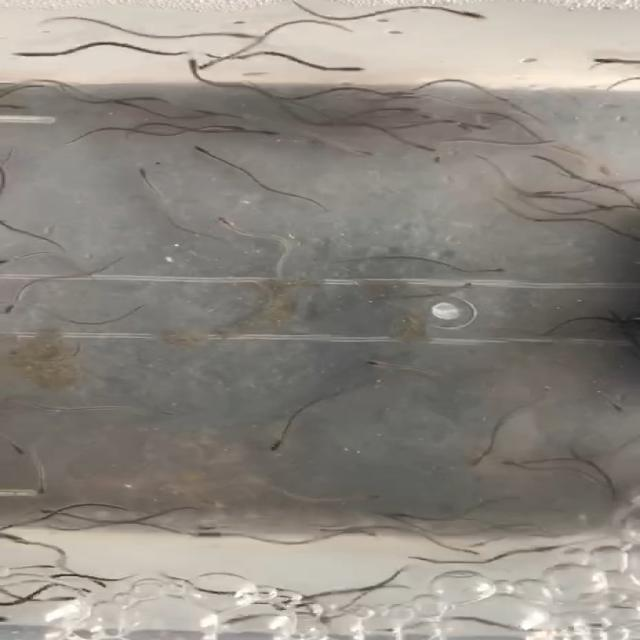active_glass_eel: (586, 398, 630, 420), (312, 519, 356, 541), (403, 141, 444, 164), (462, 6, 504, 27), (345, 354, 399, 370), (256, 438, 296, 458), (46, 591, 90, 609), (219, 23, 268, 39), (196, 216, 248, 231), (533, 186, 578, 203), (381, 86, 425, 103), (146, 406, 194, 421), (23, 480, 62, 498), (13, 42, 51, 60), (390, 554, 435, 569), (167, 56, 213, 70), (457, 450, 488, 470), (343, 63, 387, 77), (386, 100, 430, 114), (346, 147, 386, 162), (285, 589, 318, 607), (582, 53, 618, 69), (467, 264, 508, 278), (471, 118, 499, 138), (592, 198, 621, 217), (4, 438, 29, 460), (1, 526, 28, 546), (498, 458, 524, 478), (188, 524, 218, 541), (110, 98, 146, 112), (444, 280, 480, 294), (27, 559, 65, 572), (0, 257, 33, 271), (137, 92, 169, 106), (455, 545, 486, 559), (186, 108, 222, 120), (525, 152, 552, 168), (423, 118, 458, 130), (390, 506, 418, 521), (4, 539, 38, 551), (350, 489, 381, 502), (0, 305, 26, 319), (518, 452, 538, 469), (184, 141, 217, 151), (130, 170, 156, 182), (527, 542, 558, 552), (256, 128, 284, 139), (359, 528, 378, 544), (36, 503, 61, 515), (224, 614, 252, 622), (230, 123, 252, 132), (618, 230, 640, 239)
